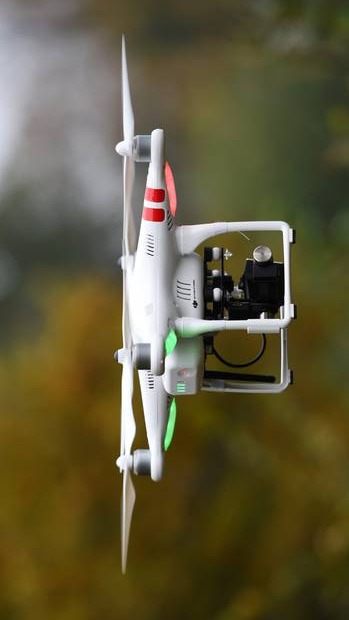drone: (115, 31, 296, 577)
